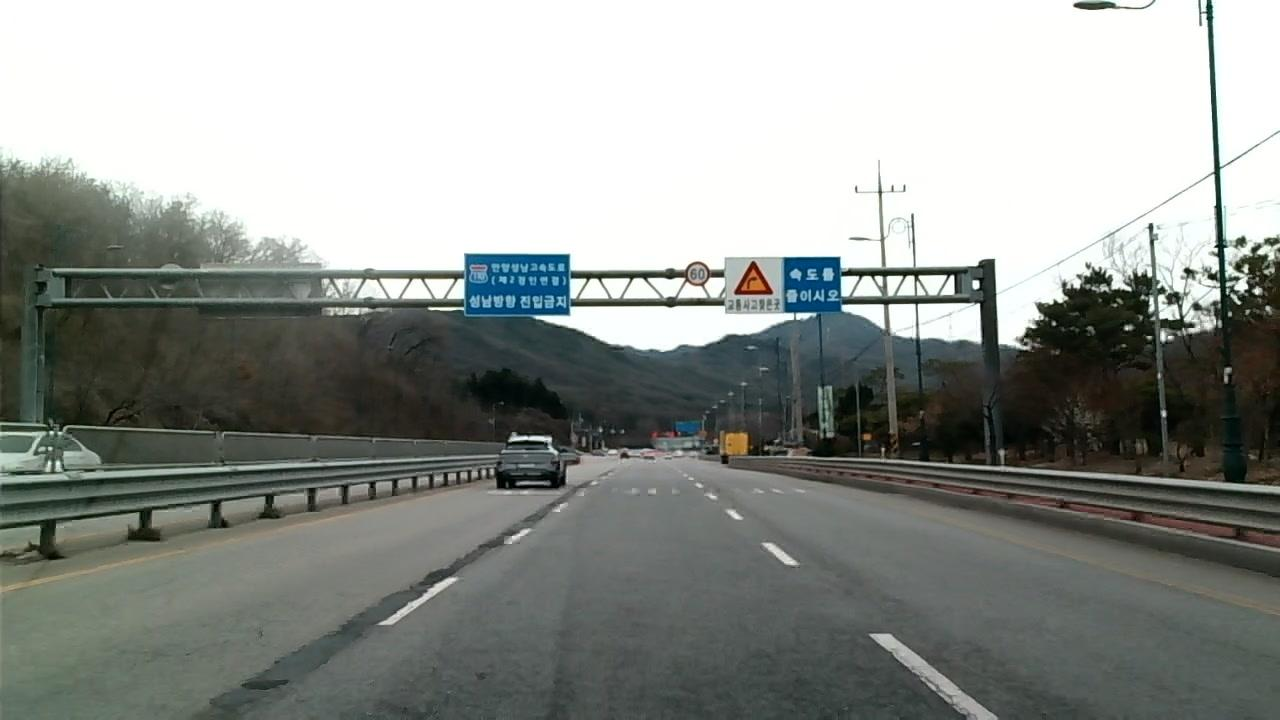banner: (201, 619, 367, 720), (372, 549, 479, 627), (483, 503, 553, 556)
